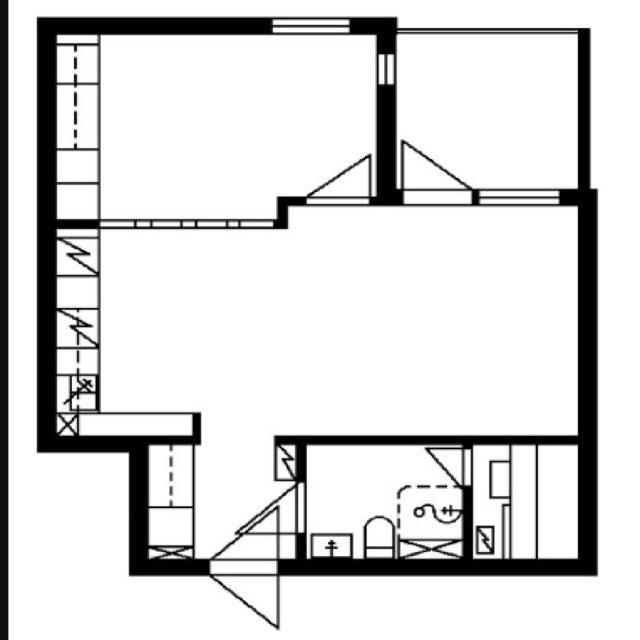door: (209, 573, 281, 632), (401, 137, 478, 190), (306, 152, 374, 200), (422, 444, 471, 488)
window: (468, 440, 584, 568), (466, 180, 573, 213), (265, 11, 358, 40), (372, 47, 398, 94)
zone: (47, 196, 590, 437), (52, 27, 380, 225), (394, 29, 586, 196), (298, 441, 468, 563), (468, 439, 585, 567)
